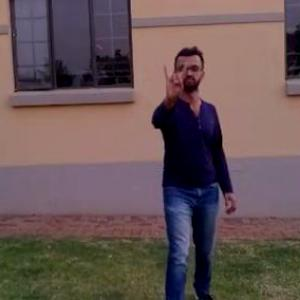takeoff-hand: (157, 56, 192, 102)
